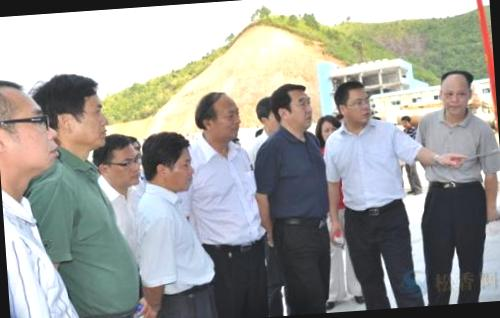no_helmet: (32, 67, 108, 173), (0, 72, 51, 184), (139, 128, 197, 196), (92, 130, 148, 192), (192, 88, 244, 147), (434, 65, 480, 119), (270, 80, 312, 138), (332, 76, 375, 129), (256, 92, 285, 136), (317, 111, 341, 145), (398, 113, 414, 130)
